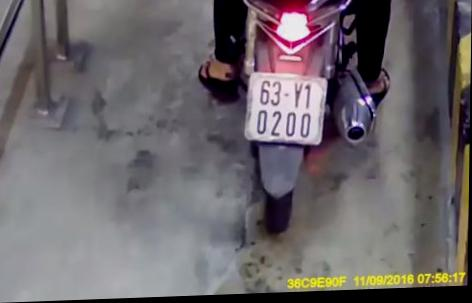License_Plate: (240, 67, 331, 151)
